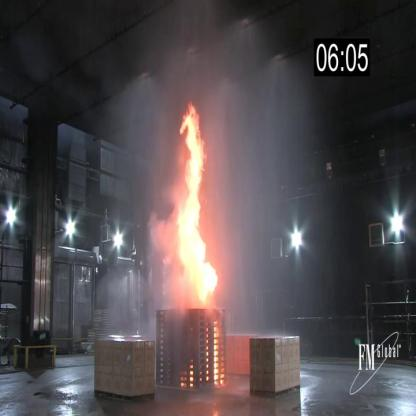fire: (175, 98, 220, 308)
